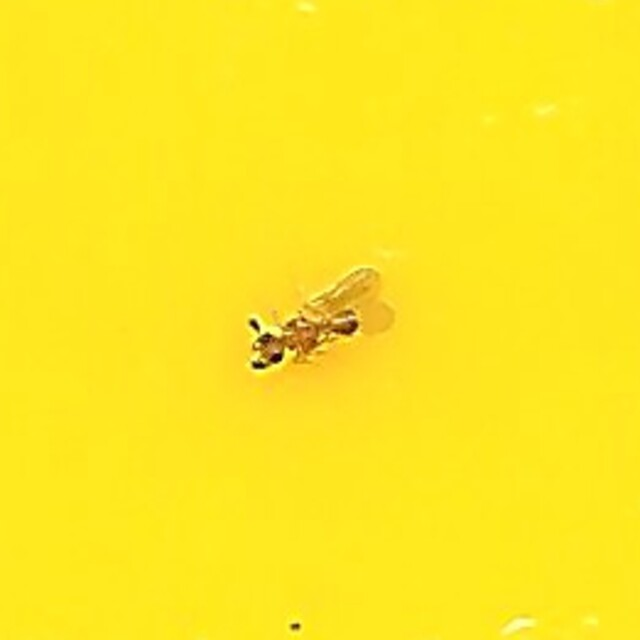Hymenoptera: (245, 266, 395, 374)
